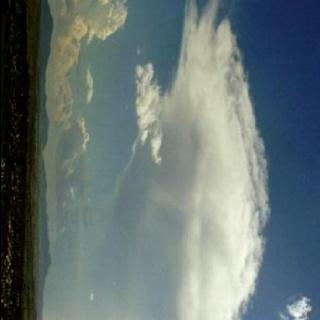Cumulus: (43, 0, 320, 320)
